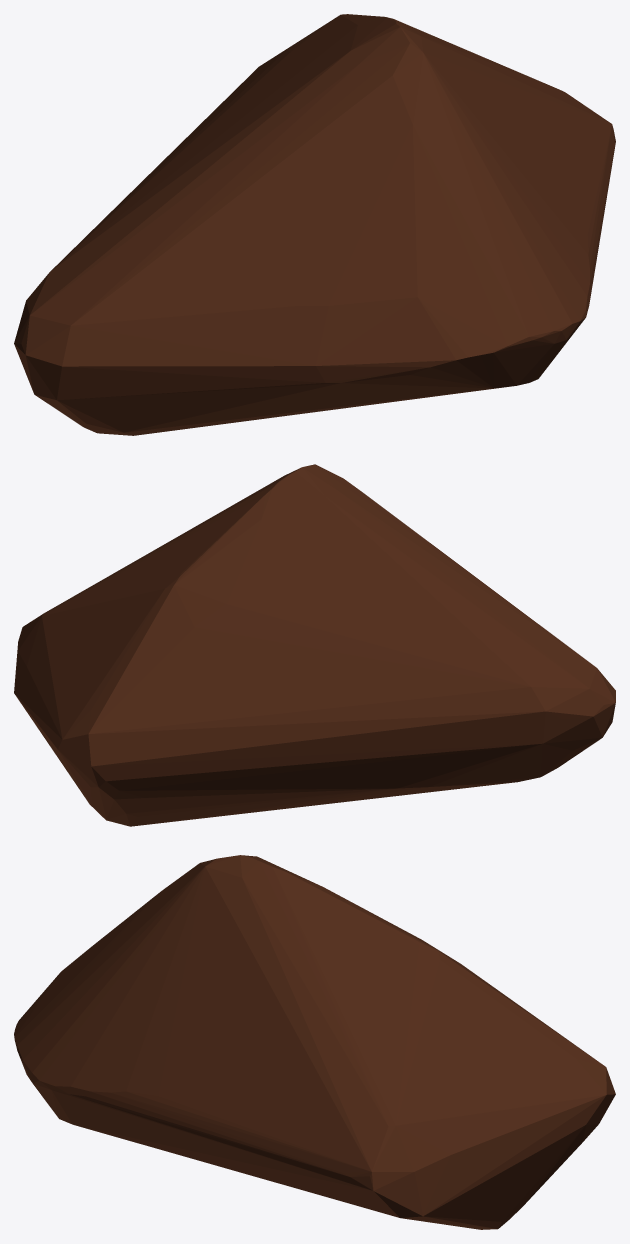
3 views of the same model, one above another, from view 1: azimuth 30°, elevation 25°; view 2: azimuth 150°, elevation 25°; view 3: azimuth 270°, elevation 25° (orthographic). The views are drawn at different scales.
Parts seen in each view (by area): view 1: brush_MatteHull_g0_b0; view 2: brush_MatteHull_g0_b0; view 3: brush_MatteHull_g0_b0.
Part boxes in pixels (left/top/right/bottom): brush_MatteHull_g0_b0: left=14, top=14, right=615, bottom=435; brush_MatteHull_g0_b0: left=14, top=464, right=615, bottom=826; brush_MatteHull_g0_b0: left=14, top=855, right=615, bottom=1229.
Bounding box in the file's own units: 2.11 × 1.14 × 1.85.
